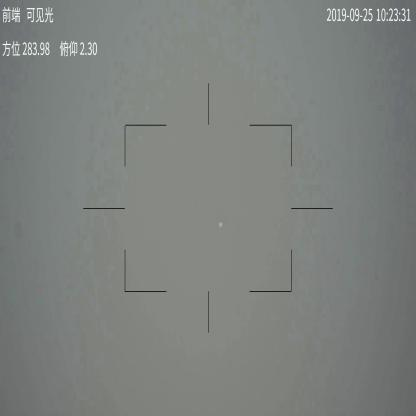uav: (217, 220, 223, 230)
